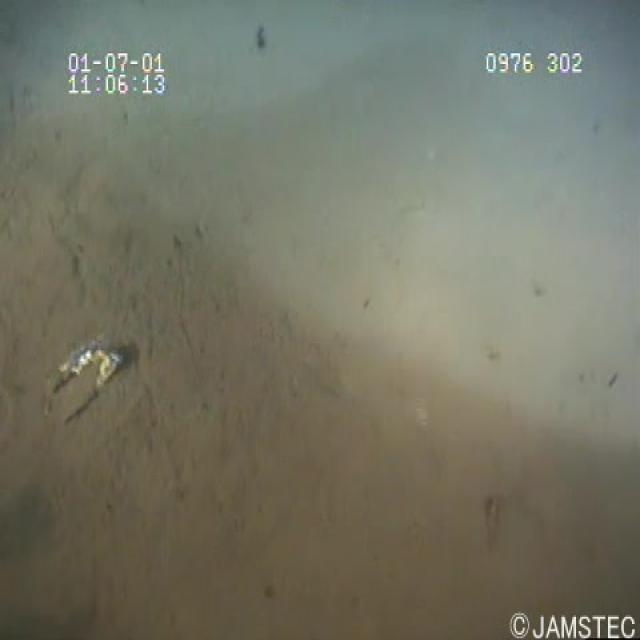plastic: (37, 326, 142, 454)
